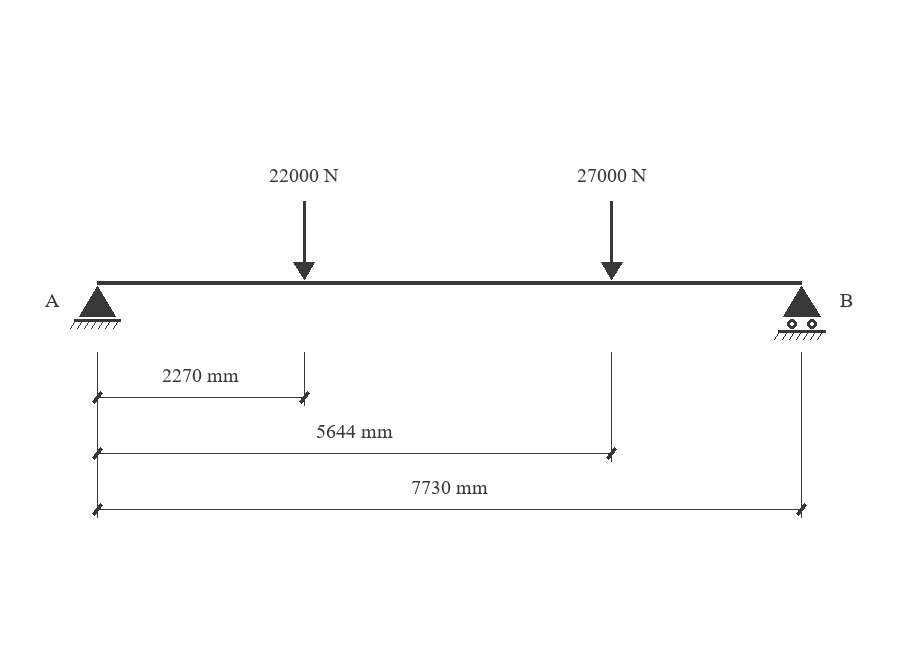pin_support: (70, 286, 121, 329)
point_load: (293, 201, 315, 280), (601, 201, 623, 280)
roller_support: (774, 286, 826, 340)
